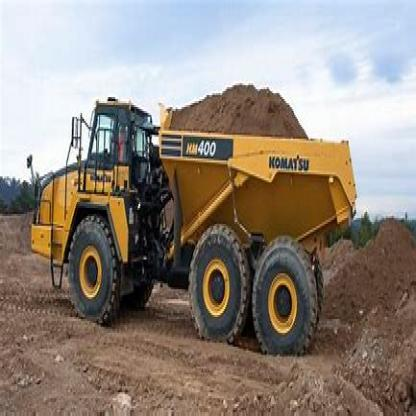dump_truck: (32, 76, 364, 362)
